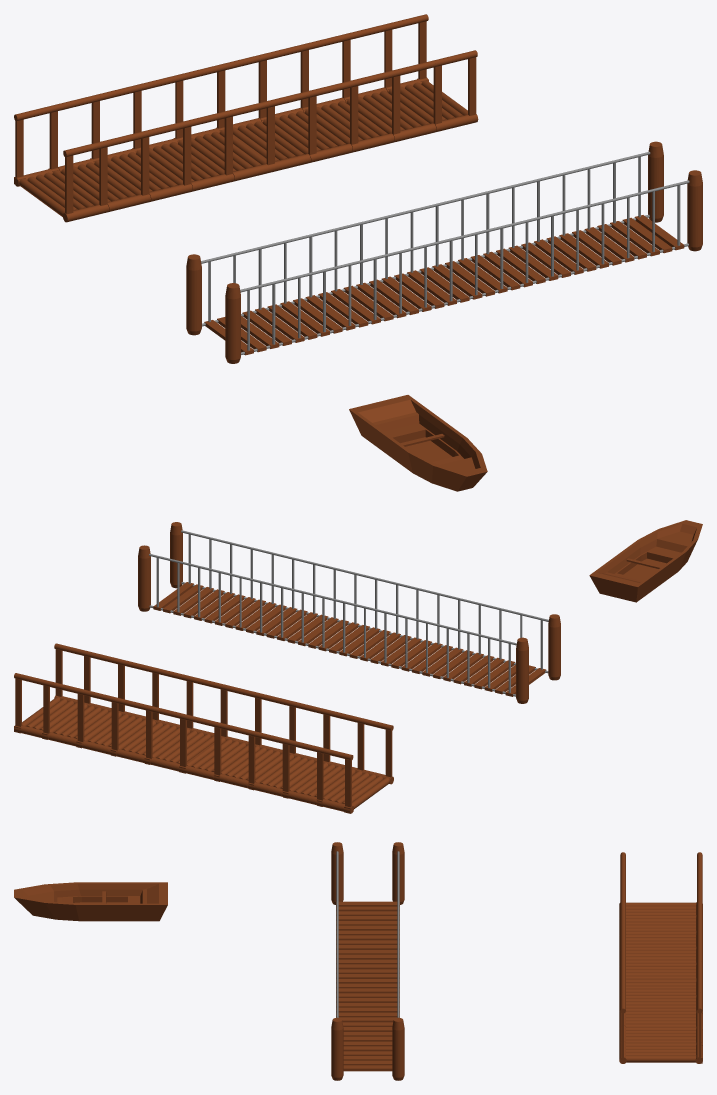
Rendered from Connections.fbx.
3 renders of one model, top to bottom at view 1: azimuth 30°, elevation 25°; view 2: azimuth 150°, elevation 25°; view 3: azimuth 270°, elevation 25°, orthographic. The views are drawn at different scales.
Visible parts, largest first — view 1: Bridge1, Bridge2, Boat; view 2: Bridge1, Bridge2, Boat; view 3: Bridge1, Bridge2, Boat.
Boxes of the visible parts, <box> form: Bridge1: <box>14,14,478,222</box>; Bridge2: <box>186,141,702,363</box>; Boat: <box>349,395,487,491</box>; Bridge1: <box>14,643,393,813</box>; Bridge2: <box>138,522,560,703</box>; Boat: <box>589,520,702,602</box>; Bridge1: <box>619,852,702,1063</box>; Bridge2: <box>331,842,404,1080</box>; Boat: <box>14,882,167,921</box>.
Bounding box in the file's own units: 2592 × 394 × 4173.
